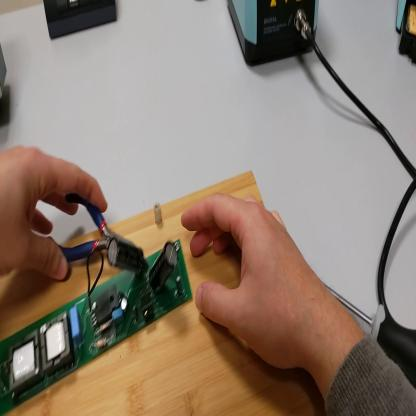hand: (182, 193, 323, 370), (2, 145, 110, 283)
high voltage board: (1, 232, 196, 414)
pliers: (49, 190, 145, 275)
screwdriver-: (321, 279, 416, 390)
welder base: (396, 2, 416, 69)
welder station: (228, 2, 323, 70)
working area: (1, 169, 326, 415)
